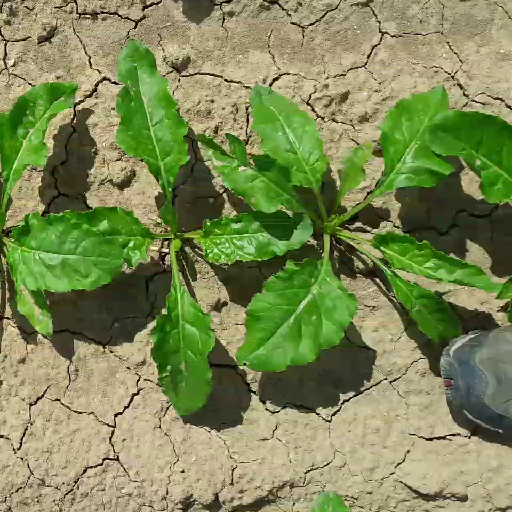sugarbeet: (19, 32, 317, 419), (187, 80, 507, 379), (1, 79, 125, 352)
